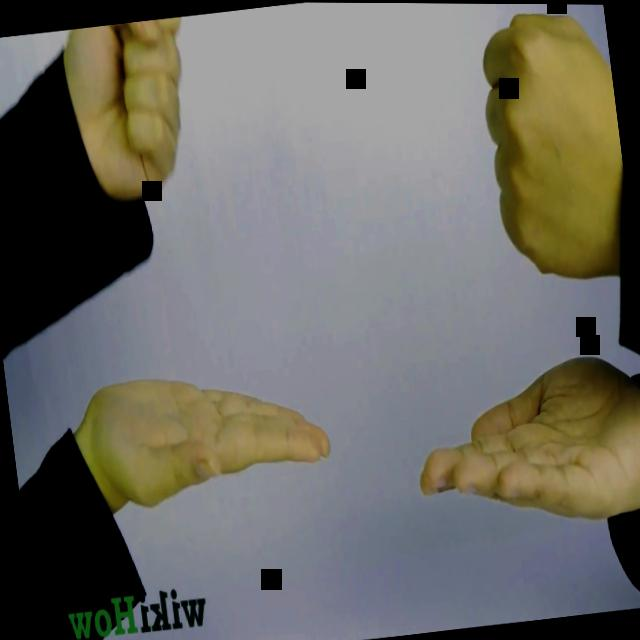Rock: (472, 3, 636, 291), (60, 14, 206, 208)
